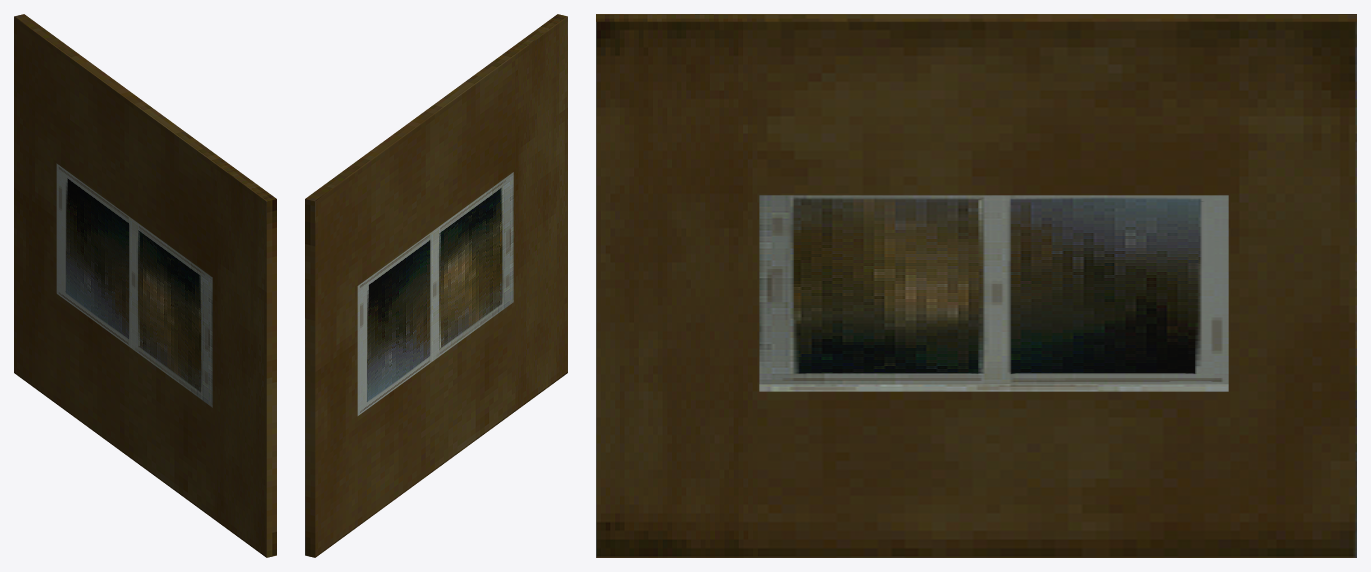
Rendered from SM_Office_Room_Window_Wall.fbx.
3 renders of one model, left to right at view 1: azimuth 30°, elevation 25°; view 2: azimuth 150°, elevation 25°; view 3: azimuth 270°, elevation 25°, orthographic. The views are drawn at different scales.
Parts seen in each view (by area): view 1: SM_OfficeRoom_Window_Wall; view 2: SM_OfficeRoom_Window_Wall; view 3: SM_OfficeRoom_Window_Wall.
Part boxes in pixels (x1=…): SM_OfficeRoom_Window_Wall: x1=14, y1=14, x2=276, y2=557; SM_OfficeRoom_Window_Wall: x1=305, y1=14, x2=567, y2=557; SM_OfficeRoom_Window_Wall: x1=596, y1=14, x2=1356, y2=557.
Bounding box in the file's own units: 9.03 × 300 × 386.
